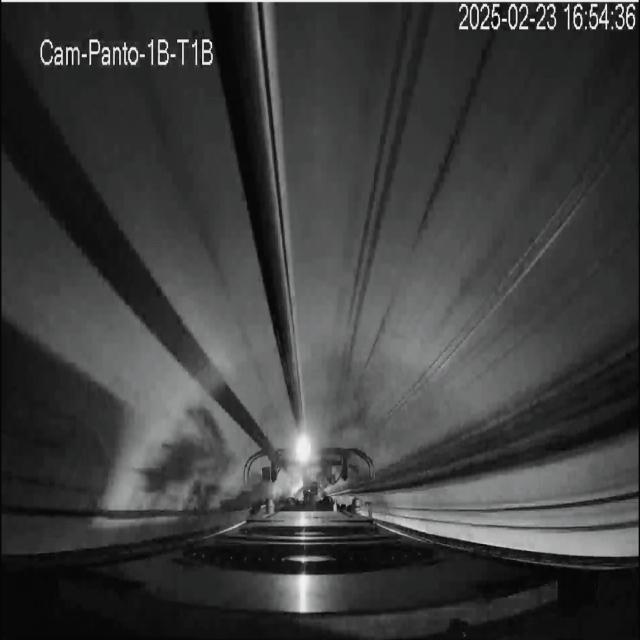Camera Stamp: (39, 34, 218, 68)
Date Stamp: (457, 2, 637, 34)
Sparks: (290, 428, 315, 471)
